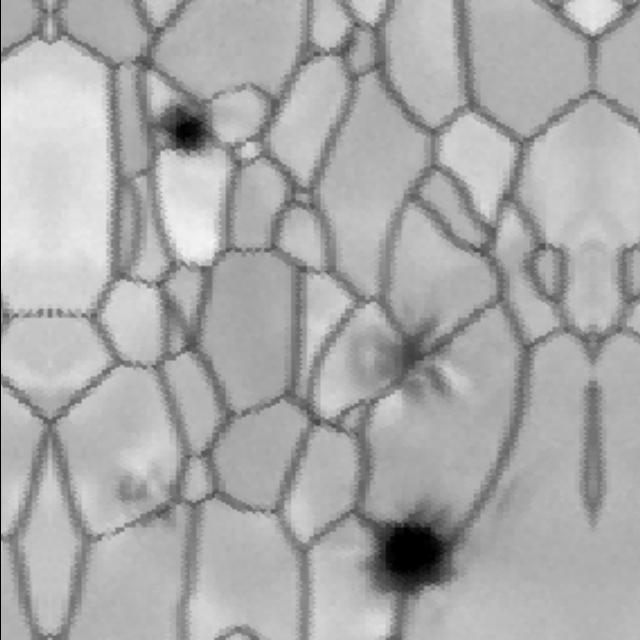good_void: (339, 483, 479, 611), (338, 300, 464, 414), (133, 91, 222, 177), (103, 467, 176, 532)
